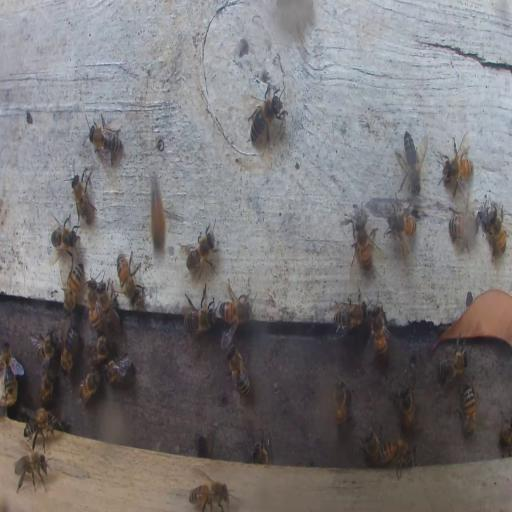bee: (245, 79, 289, 150), (86, 113, 124, 167), (147, 168, 169, 259), (384, 199, 416, 261), (440, 133, 473, 193), (183, 223, 217, 277), (396, 130, 423, 196), (349, 206, 375, 274), (480, 199, 507, 257), (68, 168, 95, 226), (22, 410, 63, 448), (183, 288, 215, 336), (380, 438, 417, 478), (332, 294, 367, 336), (115, 248, 141, 304), (226, 341, 250, 399), (49, 211, 79, 257), (188, 479, 231, 511), (14, 452, 49, 490), (94, 282, 119, 332), (392, 380, 415, 434), (217, 292, 252, 327), (368, 302, 388, 362), (64, 260, 83, 312), (458, 382, 476, 436), (60, 322, 78, 374), (360, 426, 383, 466), (438, 352, 468, 382), (2, 344, 23, 386), (333, 376, 349, 431), (102, 355, 133, 383), (2, 357, 18, 411), (32, 328, 56, 364), (78, 368, 100, 403), (88, 282, 102, 332), (449, 210, 469, 245), (40, 364, 54, 408), (250, 438, 270, 464), (92, 336, 111, 362), (500, 411, 512, 452), (221, 329, 236, 351)
